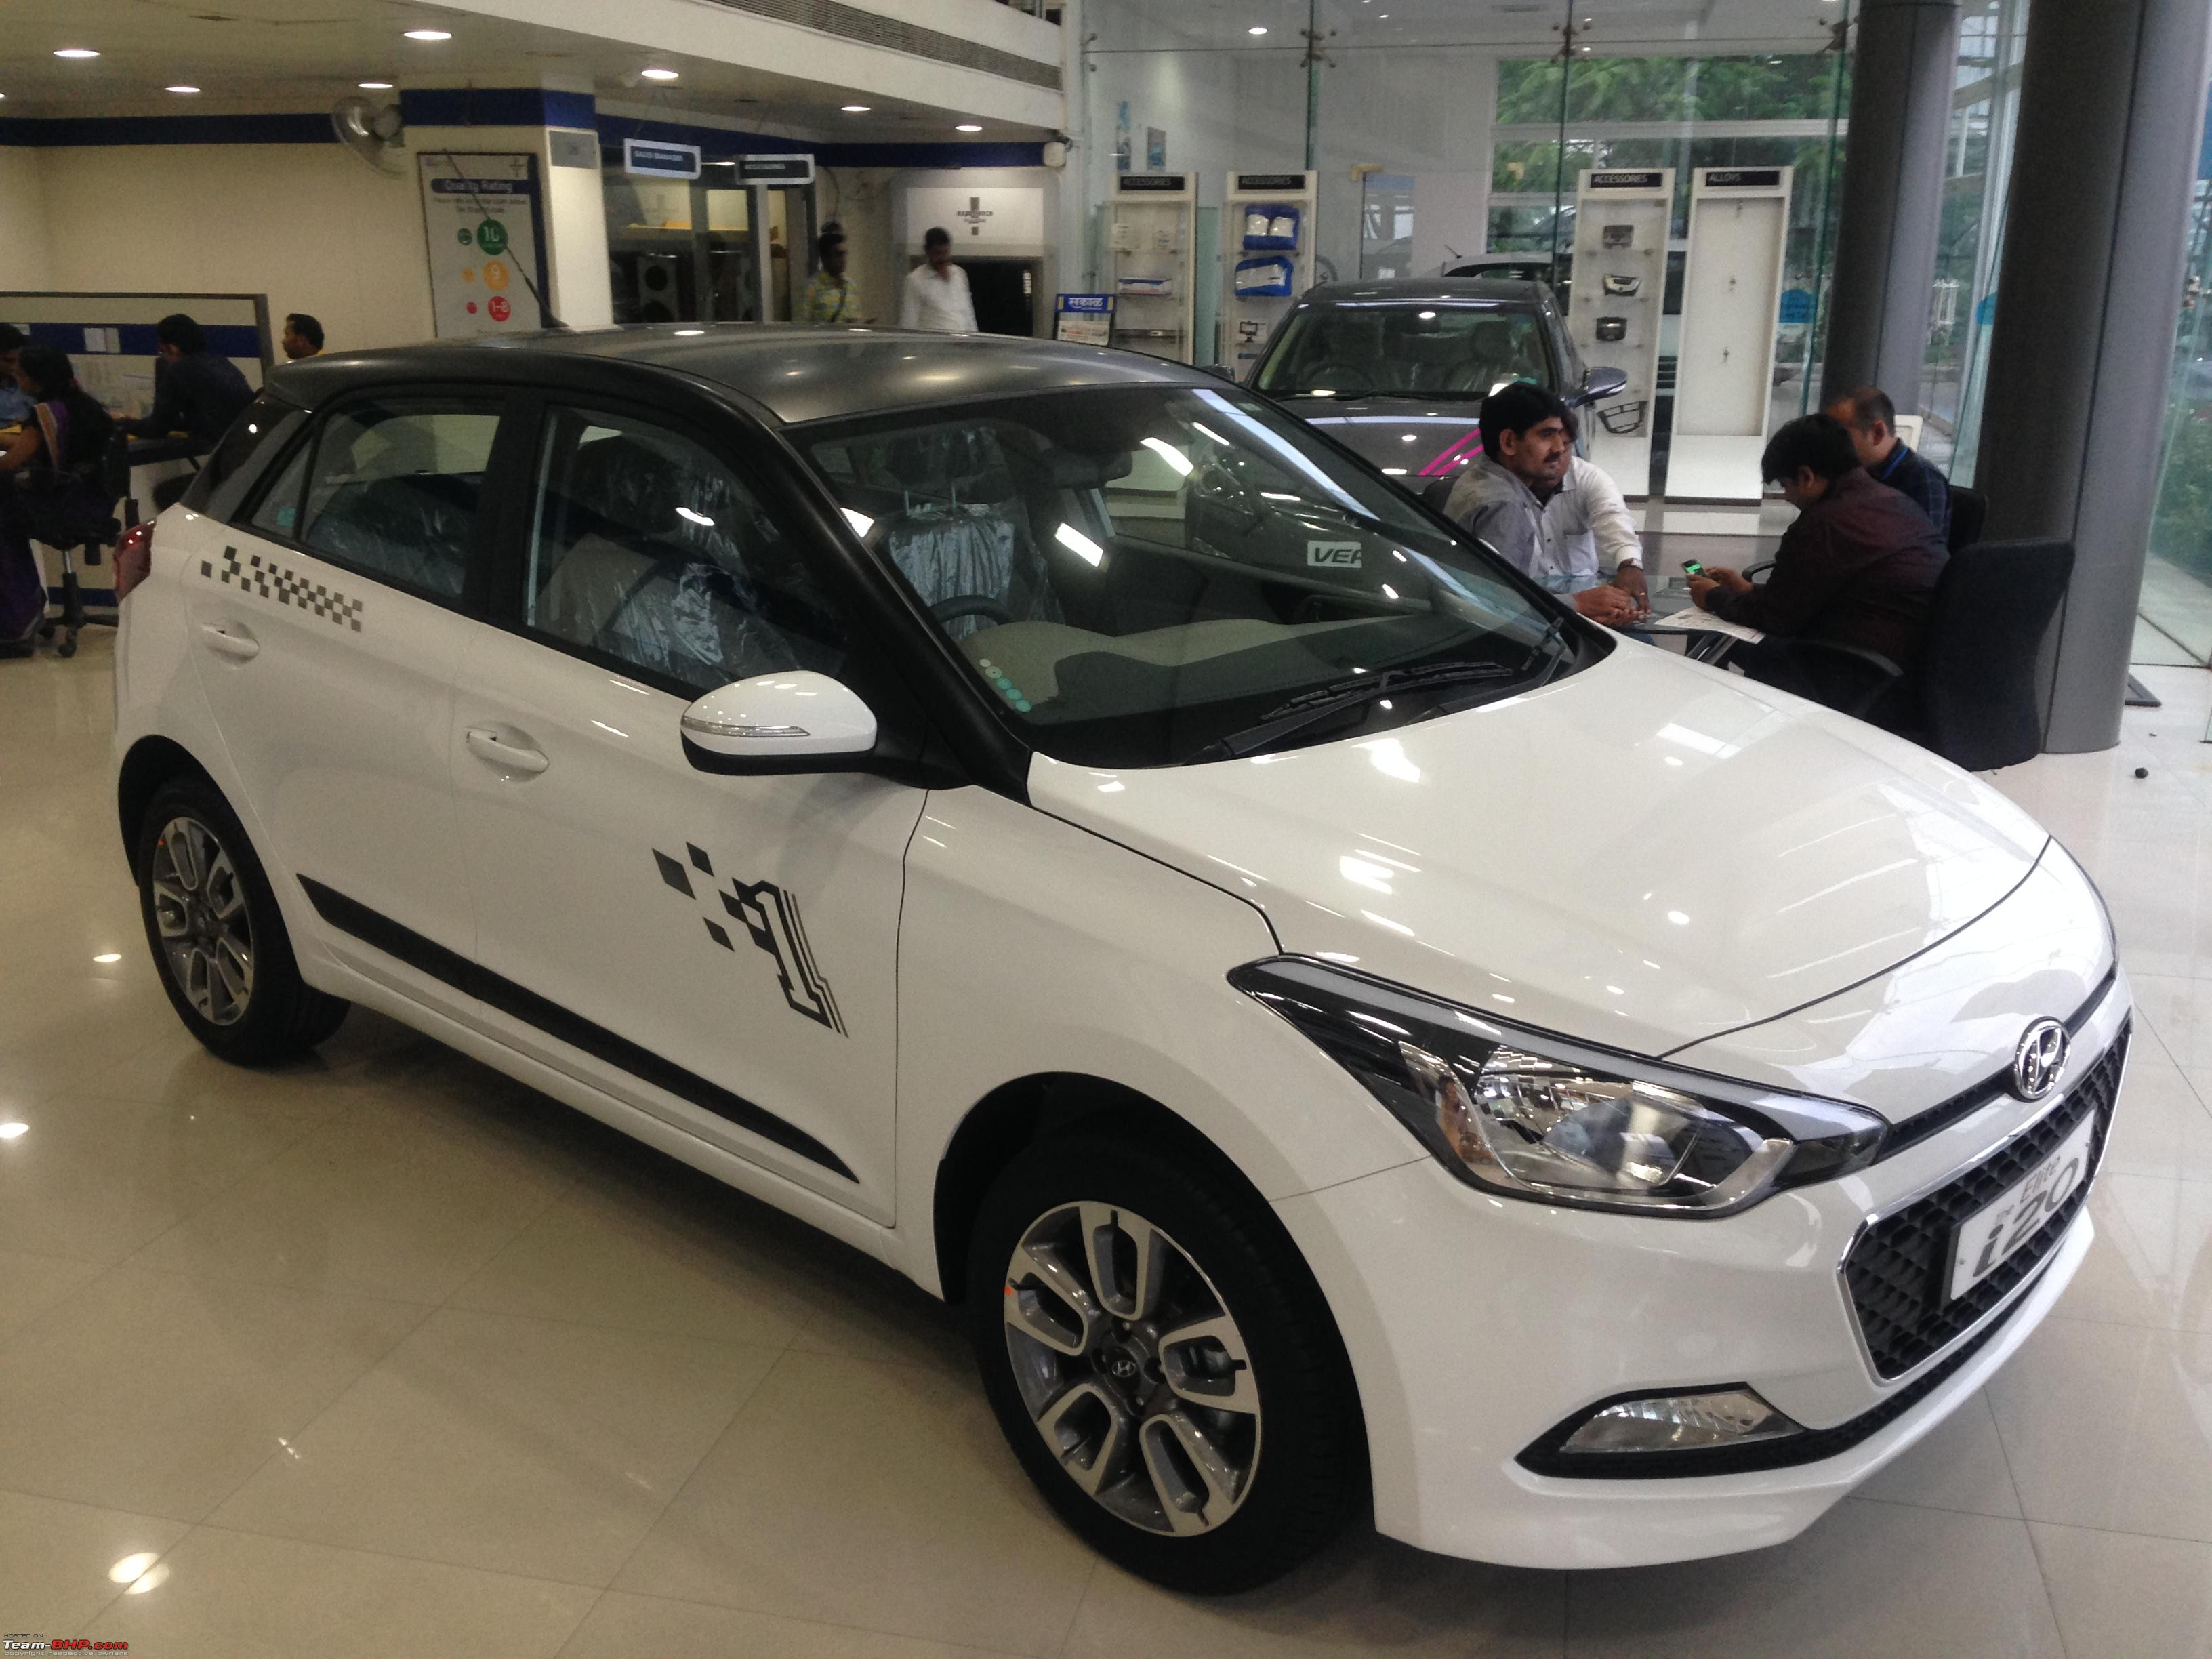i20: (94, 119, 2165, 1659)
